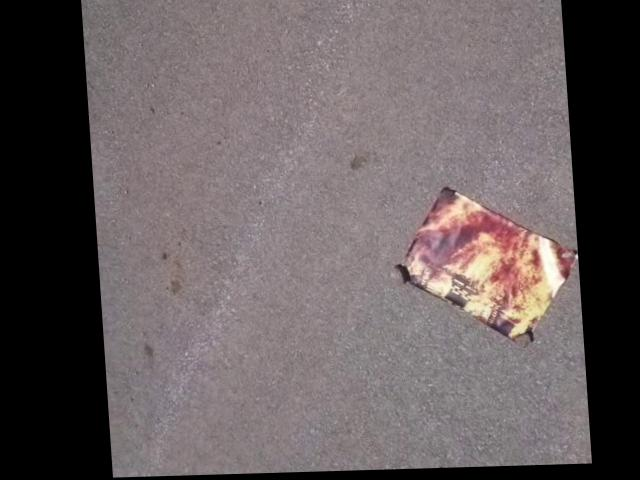fire-poster: (382, 184, 578, 350)
